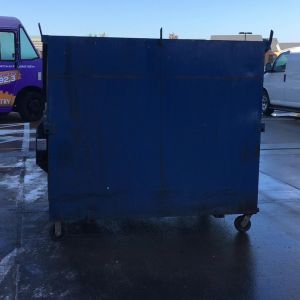Dumpster: (31, 20, 278, 249)
